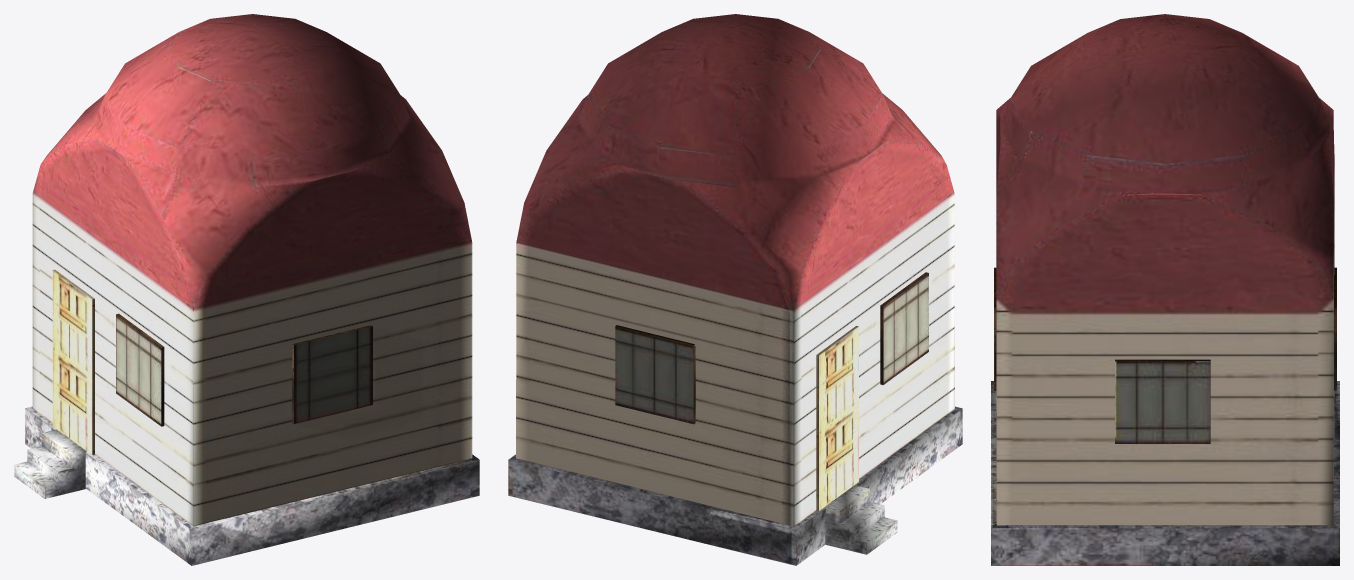
The model's file is Casa1.fbx.
The picture shows the model from 3 angles, left to right: view 1: azimuth 30°, elevation 25°; view 2: azimuth 150°, elevation 25°; view 3: azimuth 270°, elevation 25°; orthographic projection. The views are drawn at different scales.
Parts seen in each view (by area): view 1: Casa1_00; view 2: Casa1_00; view 3: Casa1_00.
Boxes of the visible parts, x1,y1,x2,y2 form: Casa1_00: [14, 14, 479, 565]; Casa1_00: [508, 14, 962, 565]; Casa1_00: [991, 14, 1339, 565].
Bounding box in the file's own units: 3.42 × 4.35 × 3.
